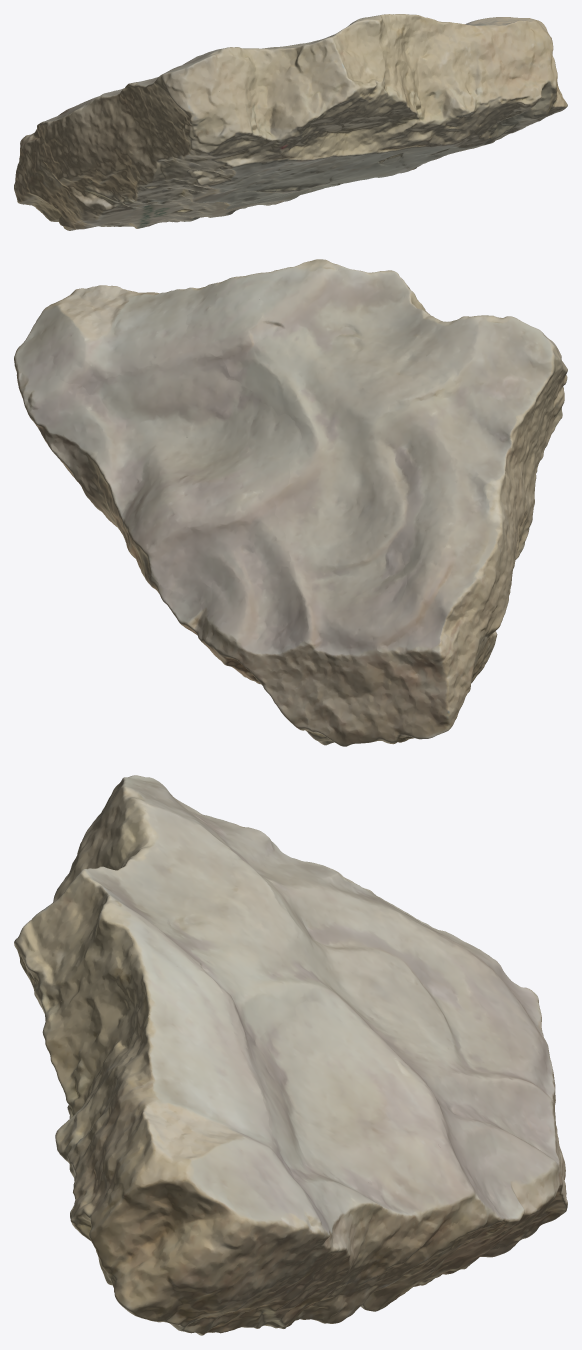
File: roche_-_rides_a_cretes_lingoides.glb
3 views of the same model, one above another, from view 1: azimuth 30°, elevation 25°; view 2: azimuth 150°, elevation 25°; view 3: azimuth 270°, elevation 25° (orthographic). The views are drawn at different scales.
Visible parts, largest first — view 1: Model; view 2: Model; view 3: Model.
Boxes of the visible parts, x1=… form: Model: x1=14, y1=14, x2=567, y2=230; Model: x1=14, y1=259, x2=567, y2=746; Model: x1=14, y1=775, x2=567, y2=1335.
Size of the model in its own units: 35.35 by 20.63 by 23.32.
